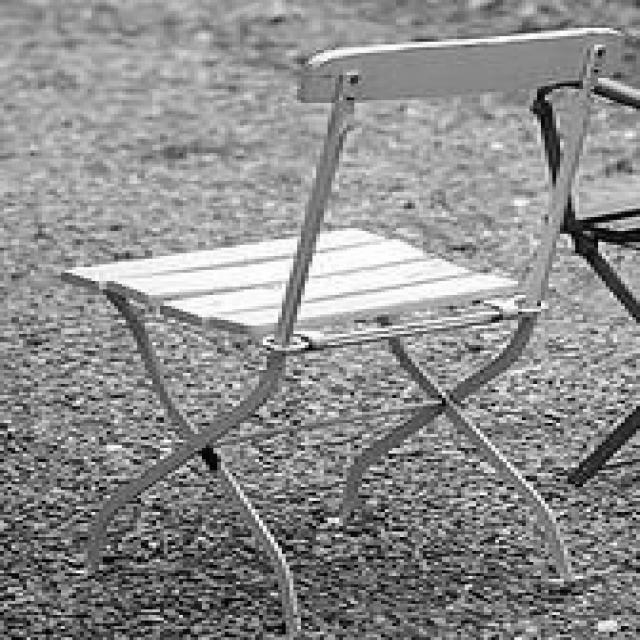chair: (61, 22, 629, 637)
